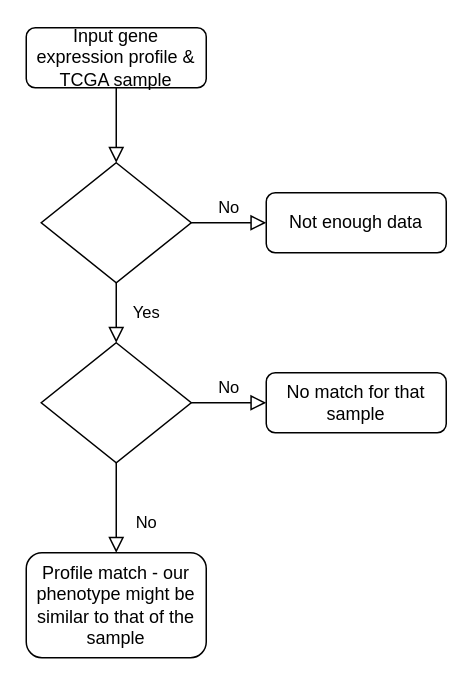
The diagram is 473 pixels wide and 684 high, and some of its shapes have lost their labels. Here are the shapes that lost their labels. From the top down, the box of each, then its label:
(40, 161, 191, 283): Gene profile in sample?
(40, 341, 191, 463): Profile match based on criteria?
